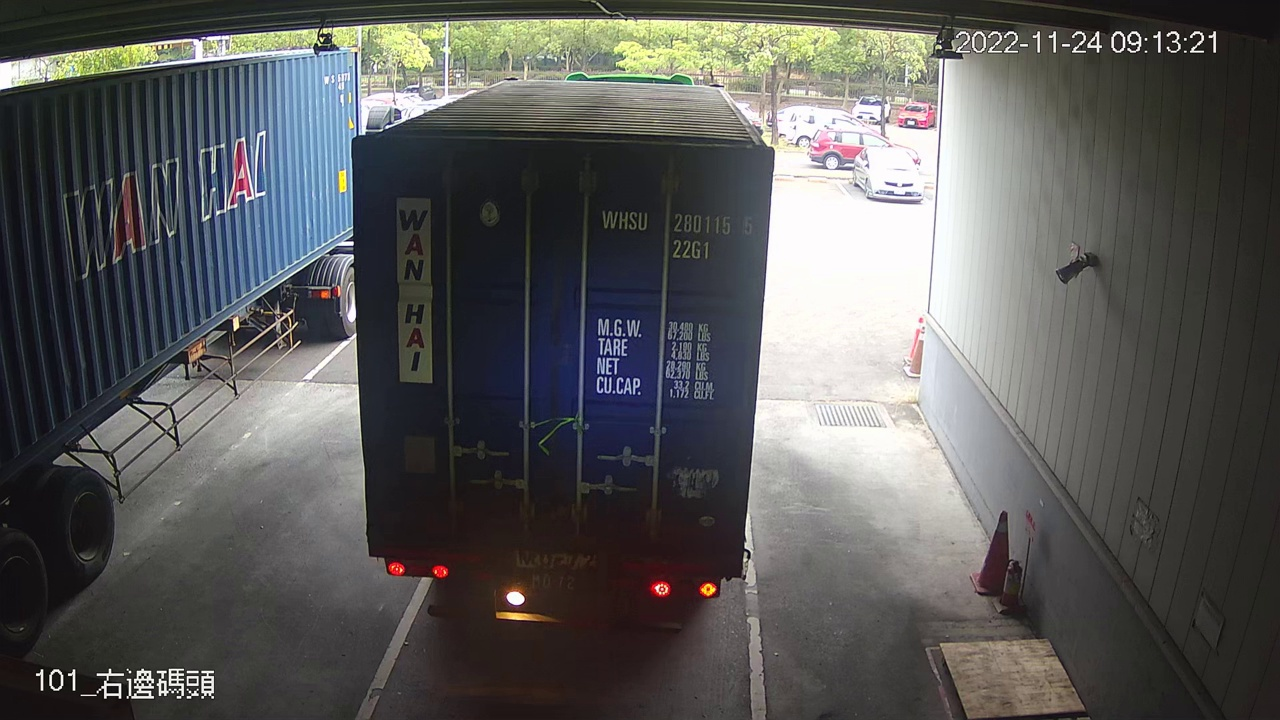container: (598, 205, 761, 265)
